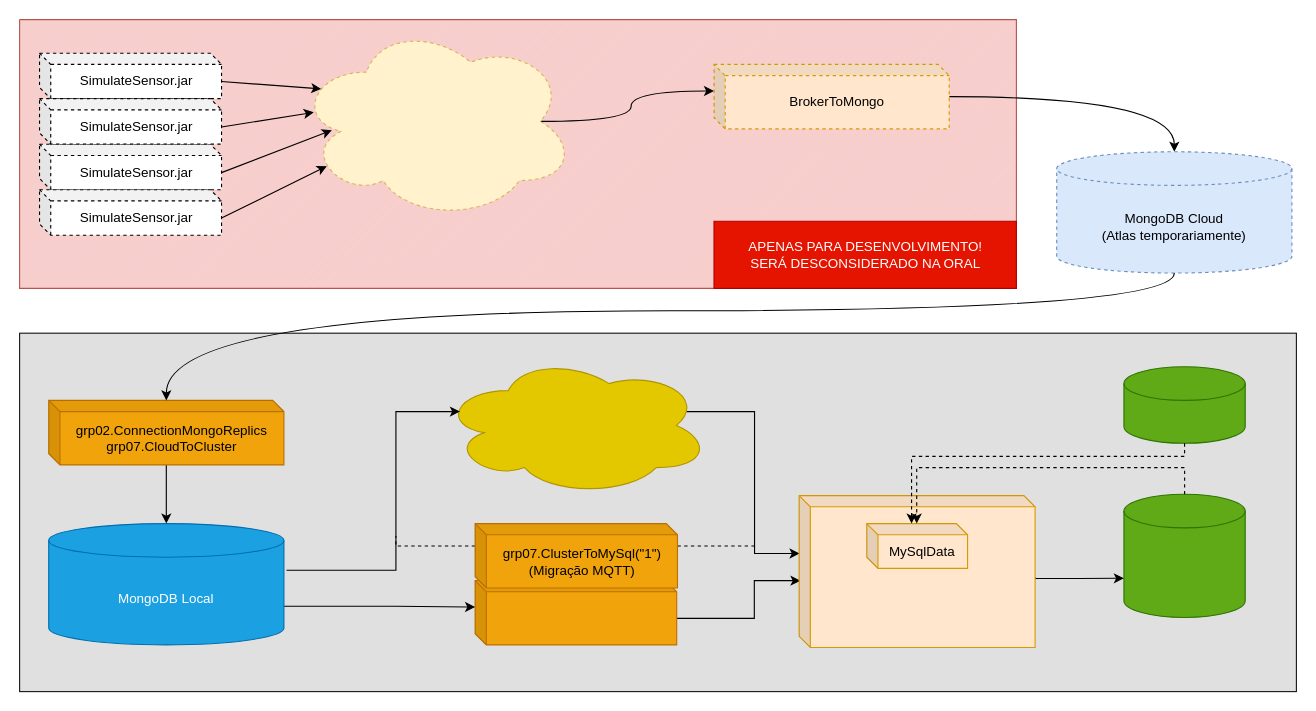
Some shapes in this 1316 by 711 pixel diagram are drawn without their labels. Here are the shapes that lost their labels. From the top down, the box of each, then its label:
(296, 22, 575, 220): Broker Topic: pisid_g07_ simulators
(1123, 366, 1245, 443): MySQL (Cloud)
(440, 354, 710, 496): Broker Topic: pisid_g07_ sensors
(798, 494, 1035, 647): grp07.MongoToMySql grp07.SqlPublisher (Análise medições)
(1123, 493, 1245, 617): MySQL (Local)
(474, 579, 677, 645): grp07.ClusterToMySql("0") (Migração direta)
